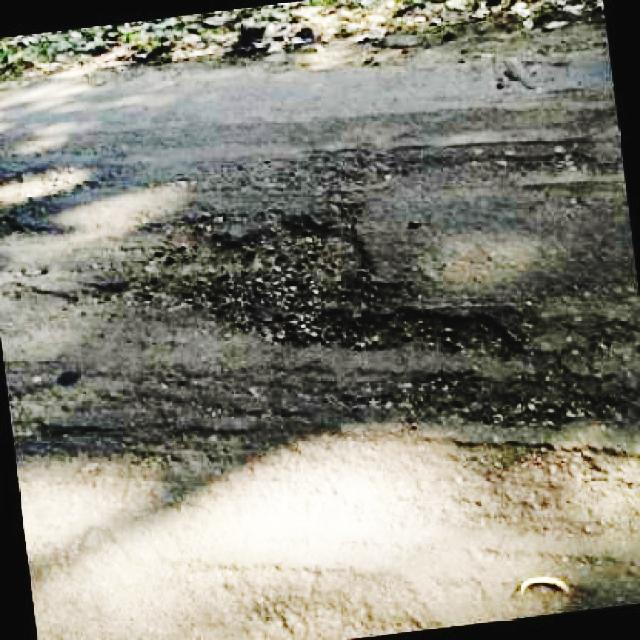pothole: (143, 208, 528, 358)
